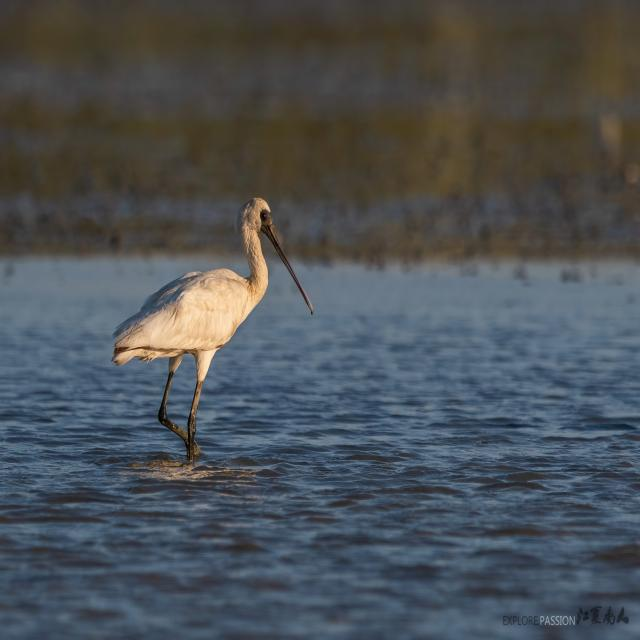Black-faced spoonbill: (113, 199, 313, 461)
